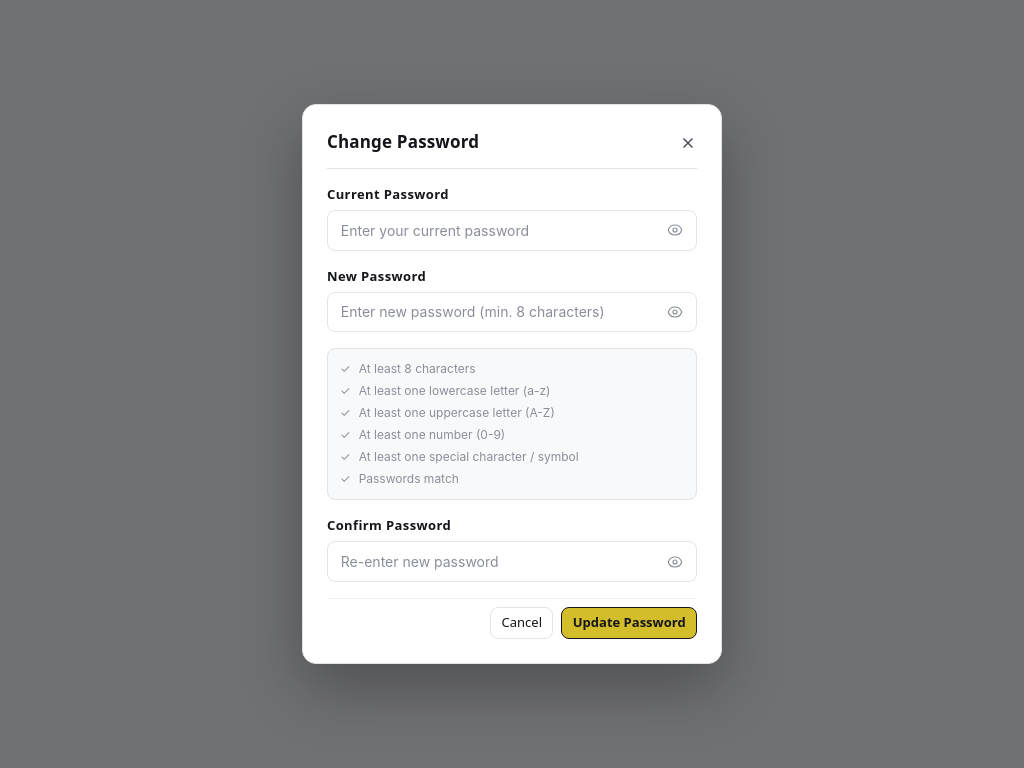
it: ChangePasswordModal › enforces minimum 8 characters requirement
Type "OldPass123!" into the password field labelled "Current Password" at [512, 230], box [327,210,697,250]
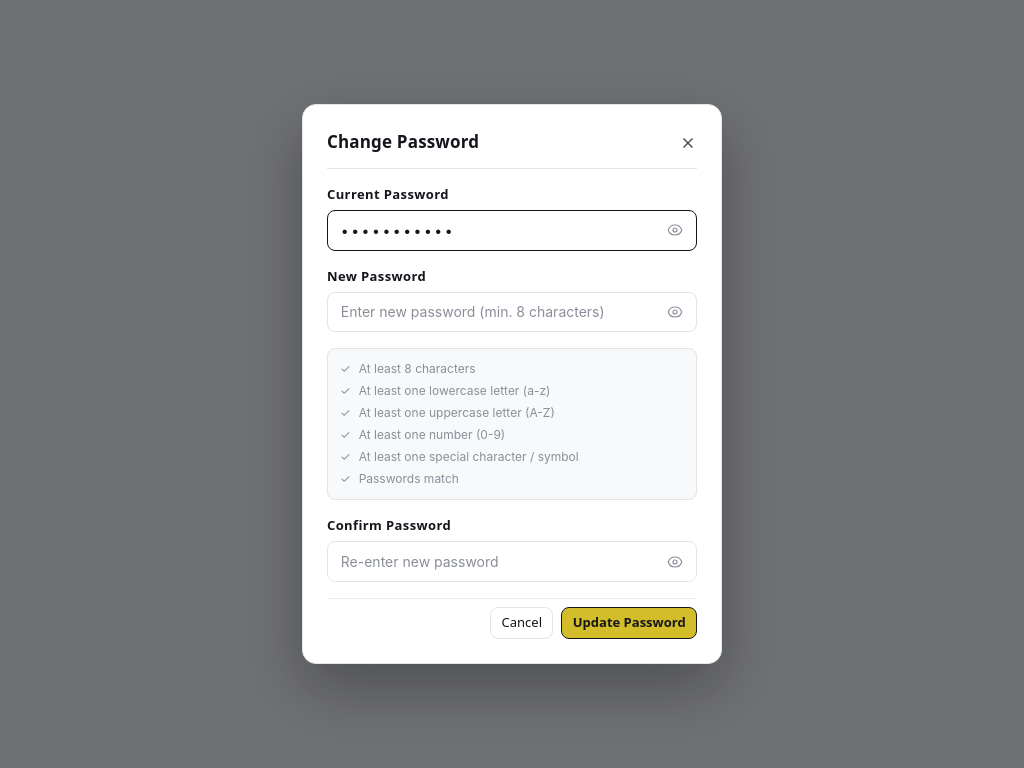
Type "Ab1!" into the password field labelled "New Password" at [512, 312], box [327,292,697,332]
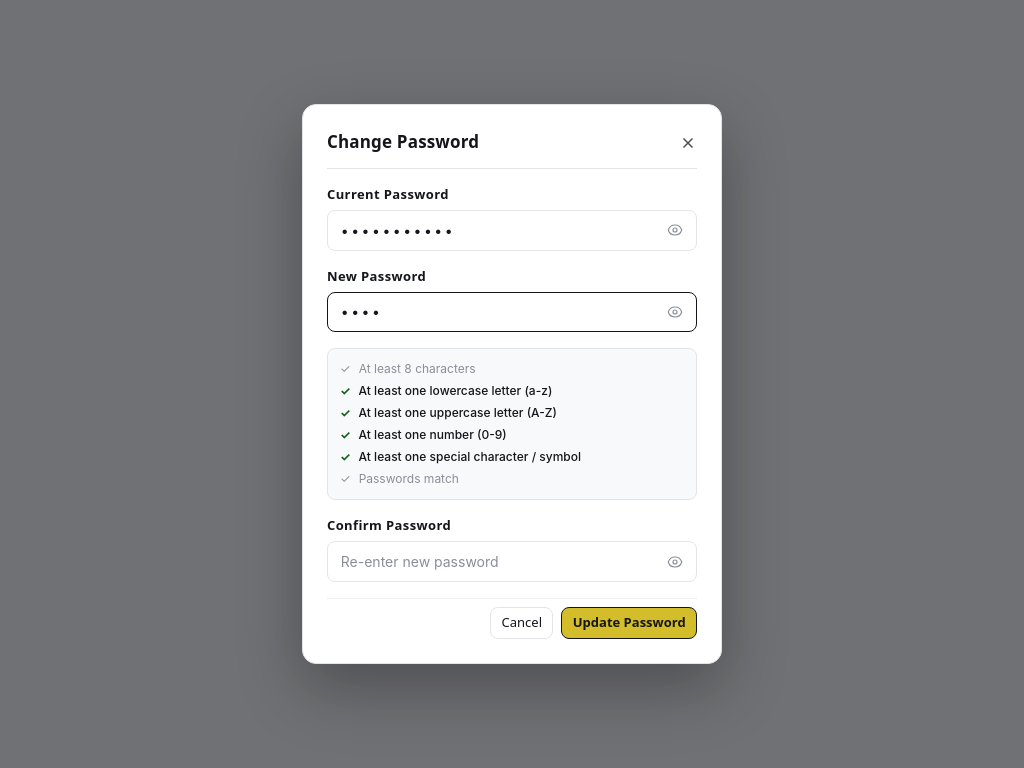
Type "Ab1!" into the password field labelled "Confirm Password" at [512, 562], box [327,541,697,582]
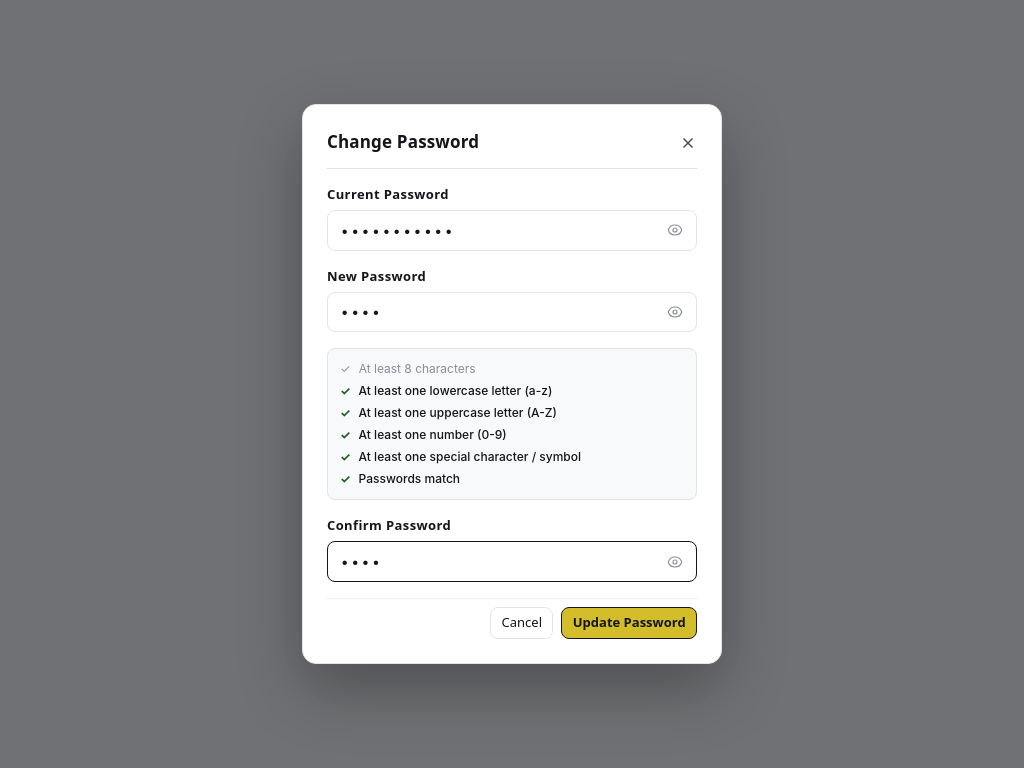
Click the button "Update Password" at [629, 623], box [561,607,697,639]
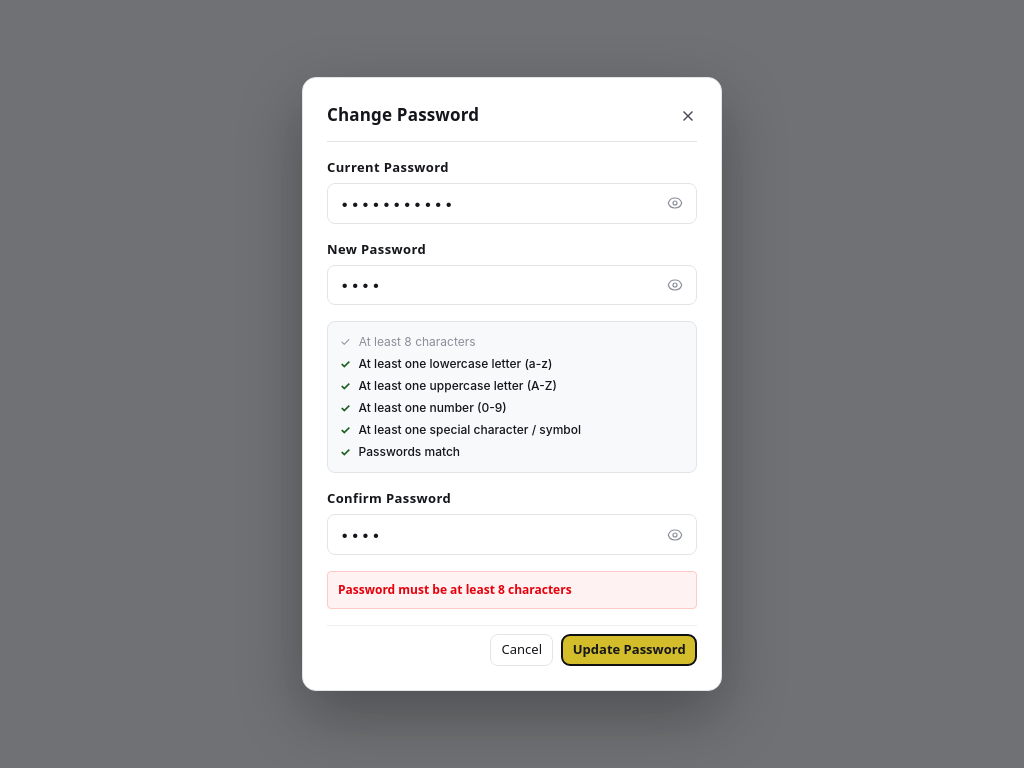
Check: the text "Password must be at least 8 characters" is shown, box [327,571,697,609]
